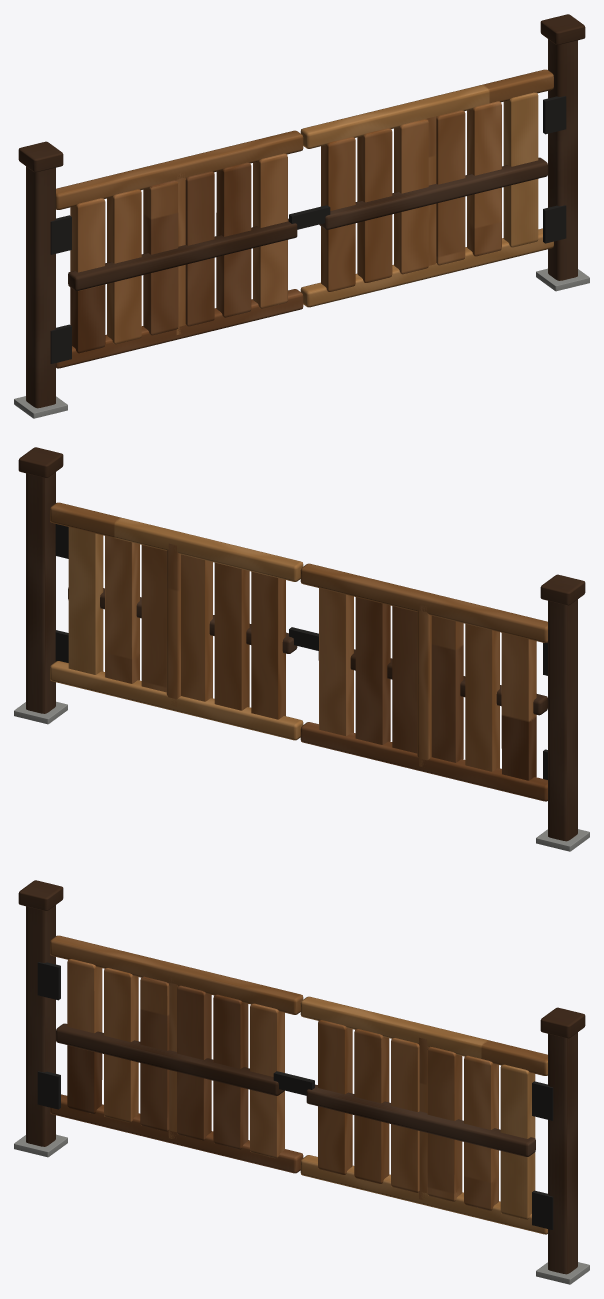
The model's file is gate.glb.
The picture shows the model from 3 angles, top to bottom: view 1: azimuth 30°, elevation 25°; view 2: azimuth 150°, elevation 25°; view 3: azimuth 330°, elevation 25°; orthographic projection.
Visible parts, largest first — view 1: Gate_Post_Left_Post, Gate_Post_Right_Post, Gate_Leaf_Right_Top, Gate_Leaf_Left_Top, Gate_Leaf_Left_Board.002, Gate_Leaf_Left_Board.004, Gate_Leaf_Right_Board.005, Gate_Leaf_Right_Board.001, Gate_Leaf_Left_Board, Gate_Leaf_Left_Board.005, Gate_Leaf_Left_Board.001, Gate_Leaf_Right_Board.002 (+19 smaller); view 2: Gate_Post_Left_Post, Gate_Post_Right_Post, Gate_Leaf_Right_Top, Gate_Leaf_Left_Top, Gate_Leaf_Left_Board.004, Gate_Leaf_Right_Board.001, Gate_Leaf_Right_Board.005, Gate_Leaf_Left_Board, Gate_Leaf_Left_Board.001, Gate_Leaf_Right_Board, Gate_Leaf_Right_Board.004, Gate_Leaf_Left_Board.005 (+14 smaller); view 3: Gate_Post_Right_Post, Gate_Post_Left_Post, Gate_Leaf_Left_Top, Gate_Leaf_Right_Top, Gate_Leaf_Right_Board.001, Gate_Leaf_Left_Board.004, Gate_Leaf_Right_Board.003, Gate_Leaf_Left_Board, Gate_Leaf_Right_Board, Gate_Leaf_Right_Board.004, Gate_Leaf_Left_Board.001, Gate_Leaf_Left_Board.003 (+19 smaller).
Part boxes in pixels (<box>): Gate_Post_Left_Post: <box>26,166,55,408</box>; Gate_Post_Right_Post: <box>548,39,577,280</box>; Gate_Leaf_Right_Top: <box>300,69,553,148</box>; Gate_Leaf_Left_Top: <box>56,130,303,209</box>; Gate_Leaf_Left_Board.002: <box>143,180,178,335</box>; Gate_Leaf_Left_Board.004: <box>216,162,251,317</box>; Gate_Leaf_Right_Board.005: <box>503,92,538,247</box>; Gate_Leaf_Right_Board.001: <box>357,128,392,282</box>; Gate_Leaf_Left_Board: <box>70,198,105,353</box>; Gate_Leaf_Left_Board.005: <box>253,153,287,308</box>; Gate_Leaf_Left_Board.001: <box>107,189,141,344</box>; Gate_Leaf_Right_Board.002: <box>394,119,428,274</box>; Gate_Post_Left_Post: <box>548,599,577,841</box>; Gate_Post_Right_Post: <box>26,472,55,713</box>; Gate_Leaf_Right_Top: <box>50,502,303,581</box>; Gate_Leaf_Left_Top: <box>300,563,547,642</box>; Gate_Leaf_Left_Board.004: <box>355,597,390,744</box>; Gate_Leaf_Right_Board.001: <box>214,562,249,710</box>; Gate_Leaf_Right_Board.005: <box>68,527,103,674</box>; Gate_Leaf_Left_Board: <box>501,633,536,780</box>; Gate_Leaf_Left_Board.001: <box>465,624,499,771</box>; Gate_Leaf_Right_Board: <box>251,571,285,719</box>; Gate_Leaf_Right_Board.004: <box>105,536,139,683</box>; Gate_Leaf_Left_Board.005: <box>319,588,353,735</box>; Gate_Post_Right_Post: <box>548,1032,577,1274</box>; Gate_Post_Left_Post: <box>26,905,55,1146</box>; Gate_Leaf_Left_Top: <box>50,935,303,1014</box>; Gate_Leaf_Right_Top: <box>300,996,547,1075</box>; Gate_Leaf_Right_Board.001: <box>354,1029,389,1183</box>; Gate_Leaf_Left_Board.004: <box>213,994,248,1149</box>; Gate_Leaf_Right_Board.003: <box>427,1046,462,1201</box>; Gate_Leaf_Left_Board: <box>67,959,102,1113</box>; Gate_Leaf_Right_Board: <box>318,1020,352,1174</box>; Gate_Leaf_Right_Board.004: <box>464,1055,498,1210</box>; Gate_Leaf_Left_Board.001: <box>104,968,138,1122</box>; Gate_Leaf_Left_Board.003: <box>177,985,211,1140</box>.
Size of the model in its own units: 3.2 by 1.41 by 0.2035.
Materials: 4 (4 with a texture image).
